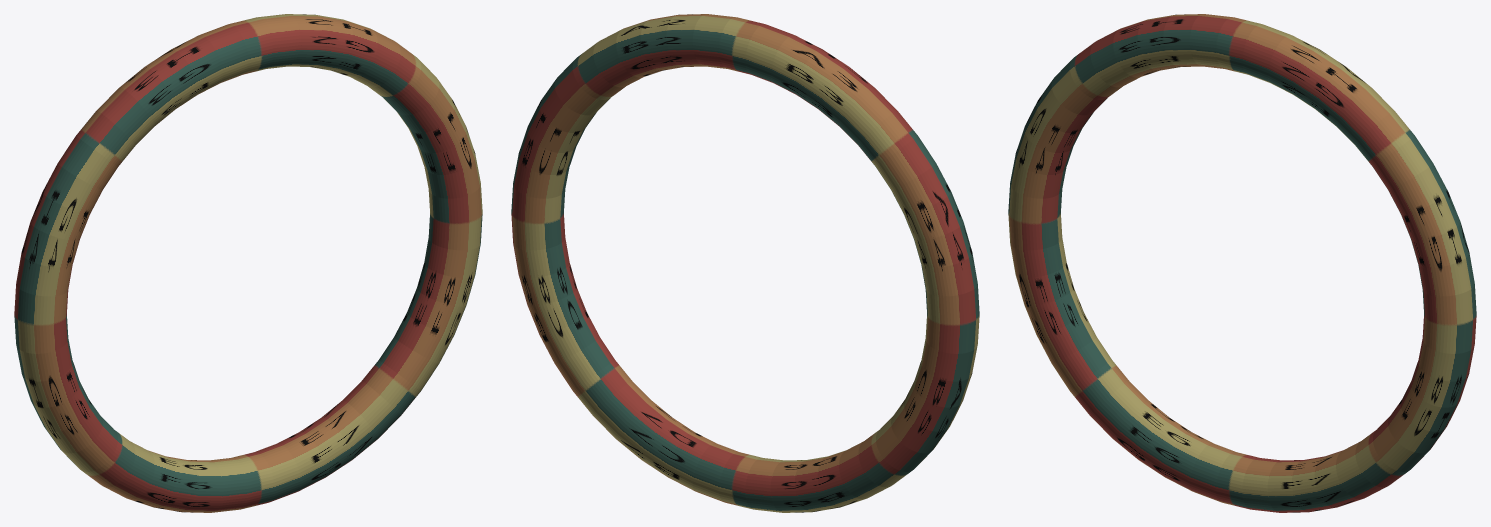
File: texture_torus_R27_r4.glb
3 renders of one model, left to right at view 1: azimuth 30°, elevation 25°; view 2: azimuth 150°, elevation 25°; view 3: azimuth 330°, elevation 25°, orthographic.
Parts seen in each view (by area): view 1: world; view 2: world; view 3: world.
Part boxes in pixels (x1,y1,x2,y2): world: (14, 14, 482, 512); world: (511, 14, 979, 512); world: (1008, 14, 1476, 512).
Size of the model in its own units: 31.07 by 31.01 by 3.06.
1 material, 1 textured.
